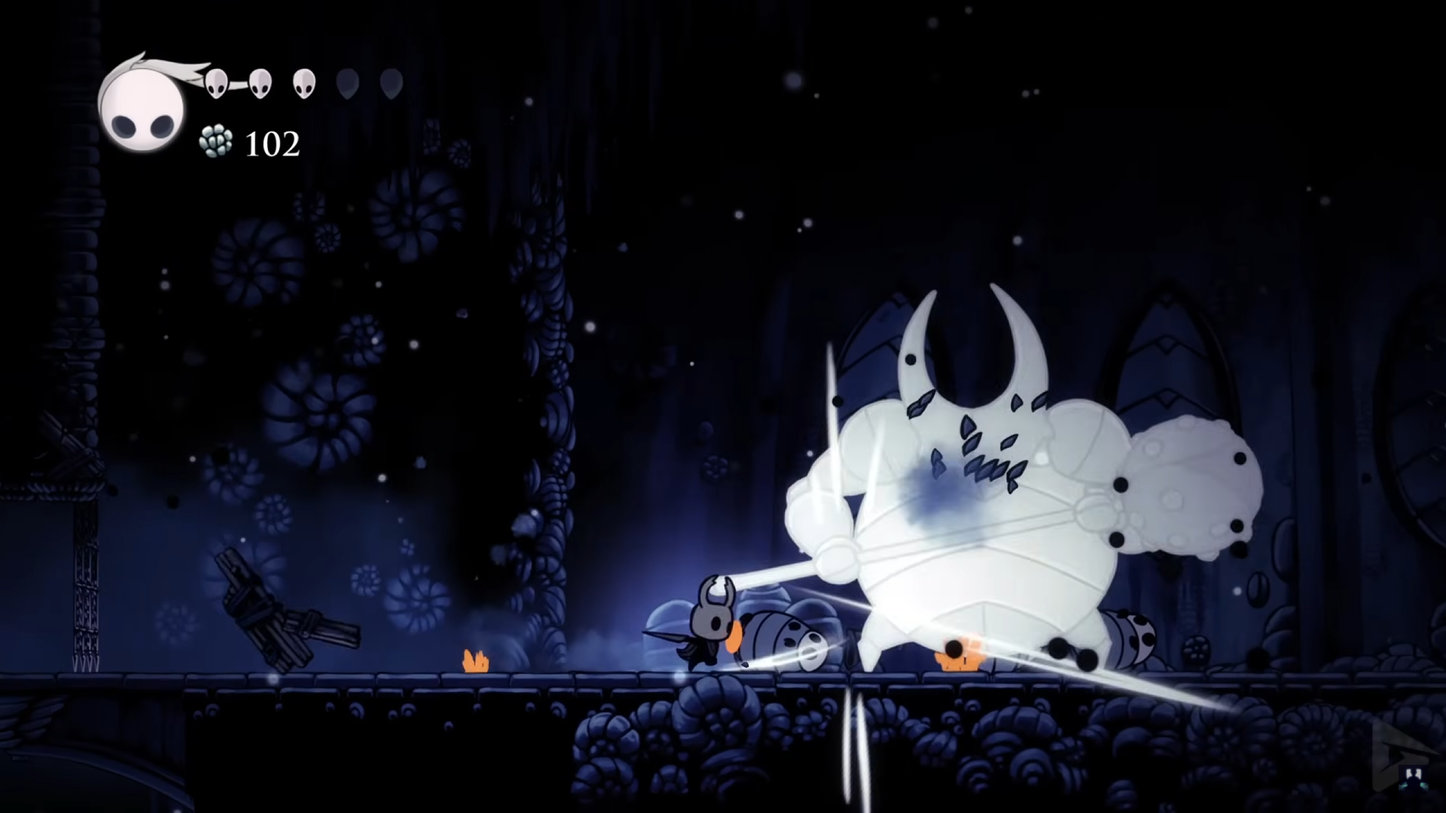HK: (673, 571, 740, 673)
